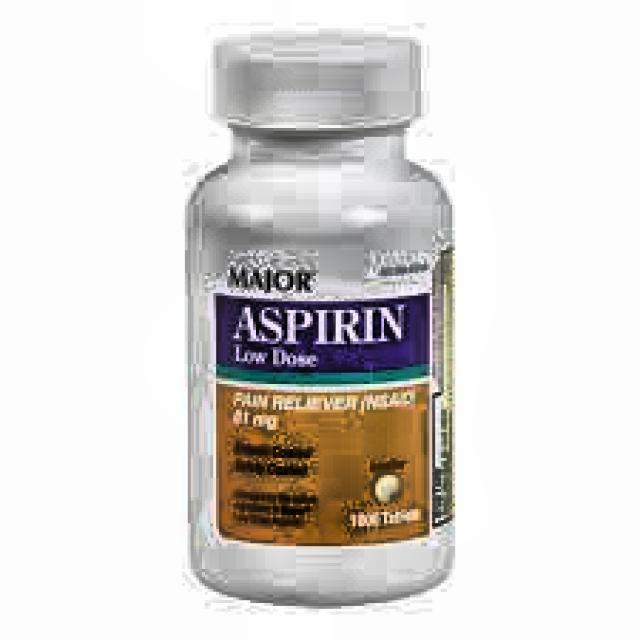Aspirin: (221, 254, 432, 435)
